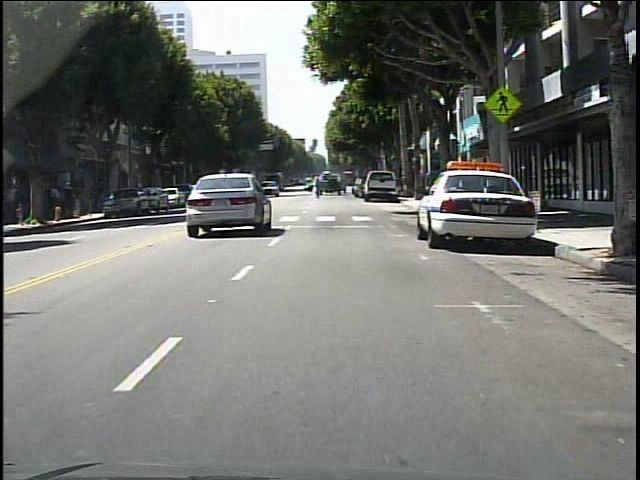person: (422, 166, 438, 204), (64, 180, 77, 219), (52, 185, 64, 219), (315, 176, 326, 201)
